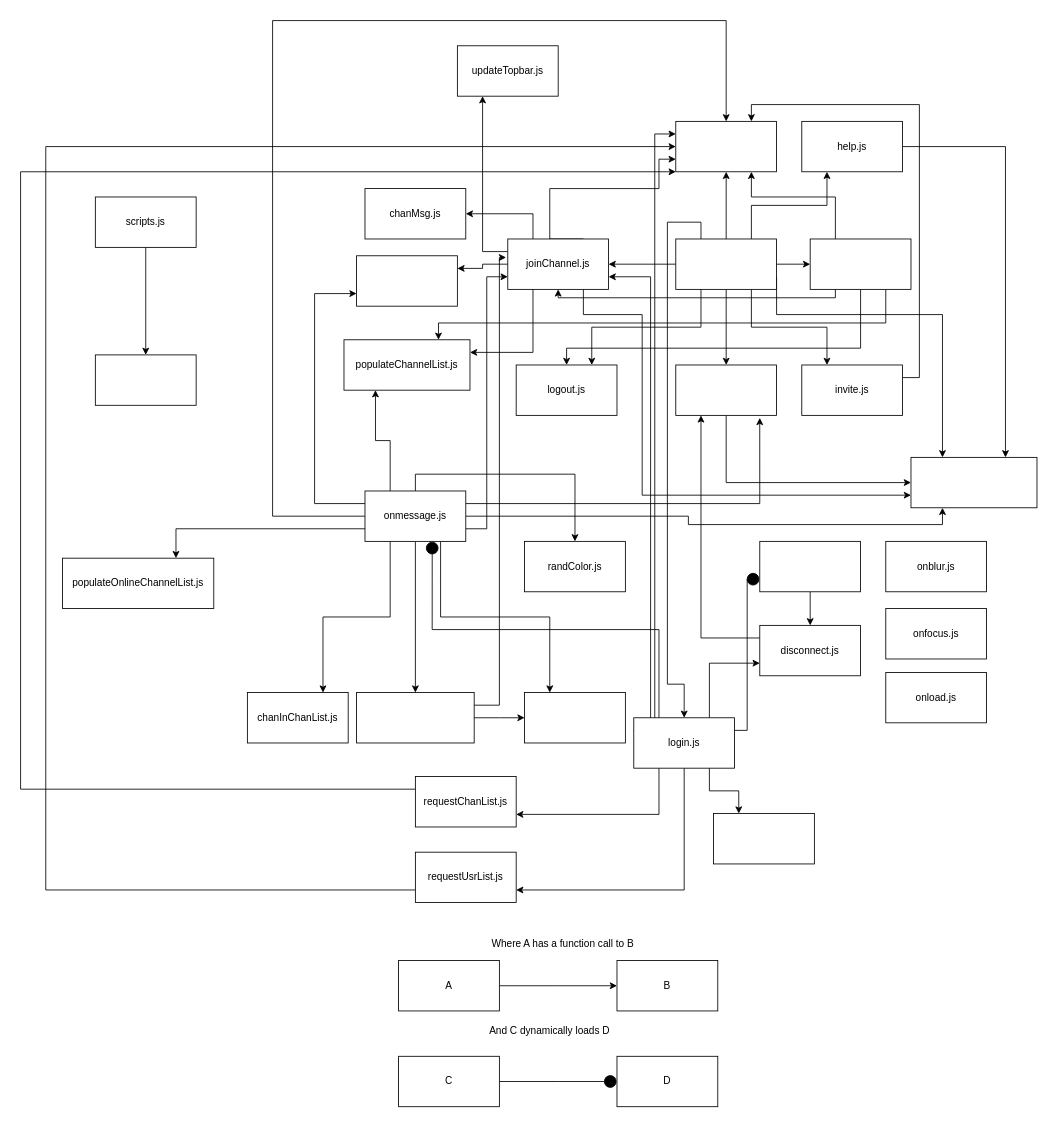
Image size: 1052x1121. Some labels were removed from this diagram. Each missing label, with the centre of its shape:
"channelObj.js" goes at (x=406, y=280).
"errorHandler.js" goes at (x=726, y=389).
"getChannel.js" goes at (x=574, y=717).
"onclose.js" goes at (x=810, y=566).
"parseInput.js" goes at (x=726, y=263).
"part.js" goes at (x=860, y=263).
"populateOnlineList.js" goes at (x=415, y=717).
"printChannelMessages.js" goes at (x=973, y=482).
"printMsg.js" goes at (x=145, y=379).
"send.js" goes at (x=726, y=146).
"welcomeMsg.js" goes at (x=763, y=838).
